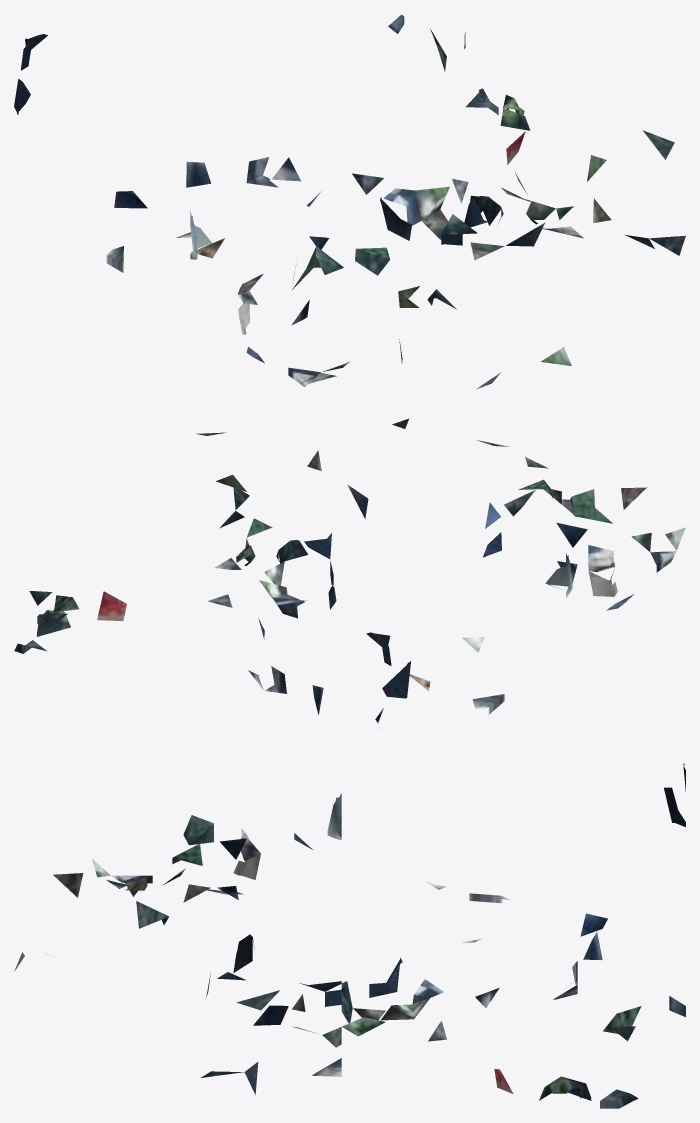
3 renders of one model, top to bottom at view 1: azimuth 30°, elevation 25°; view 2: azimuth 150°, elevation 25°; view 3: azimuth 270°, elevation 25°, orthographic. The views are drawn at different scales.
Parts seen in each view (by area): view 1: 30436272704361504420_1; view 2: 30436272704361504420_1; view 3: 30436272704361504420_1.
Boxes of the visible parts, x1,y1,x2,y2 form: 30436272704361504420_1: [14, 14, 685, 388]; 30436272704361504420_1: [14, 418, 685, 723]; 30436272704361504420_1: [14, 763, 685, 1108].
Bounding box in the file's own units: 27.31 × 8.94 × 37.33.
1 material, 1 textured.
